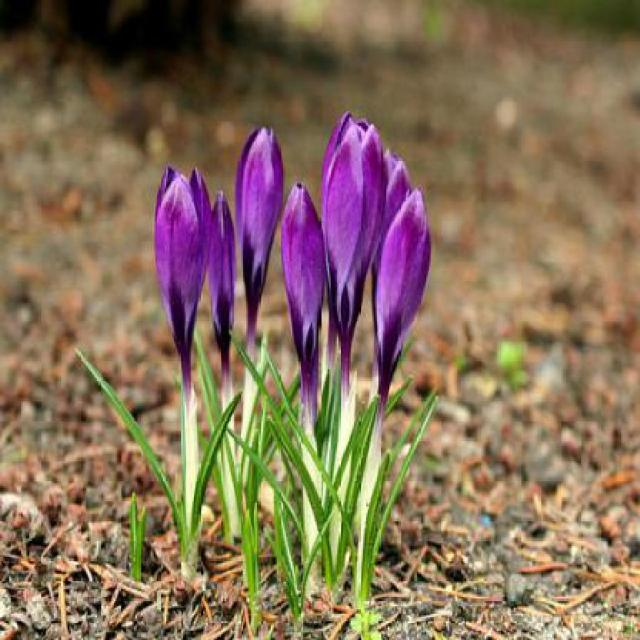Flower: (320, 108, 386, 320), (376, 189, 434, 359), (157, 164, 206, 361), (281, 181, 321, 396), (237, 123, 284, 280), (210, 188, 232, 354)
